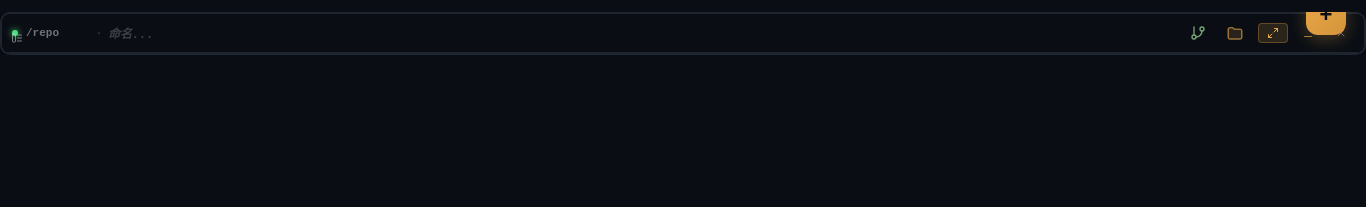
Test: M6 批A worktree 浮层 live › creating 失败 → 恢复可点 + error 显示 message
Click the button with class "tile-worktree-btn": point(1198, 33) [1184,21,1212,45]
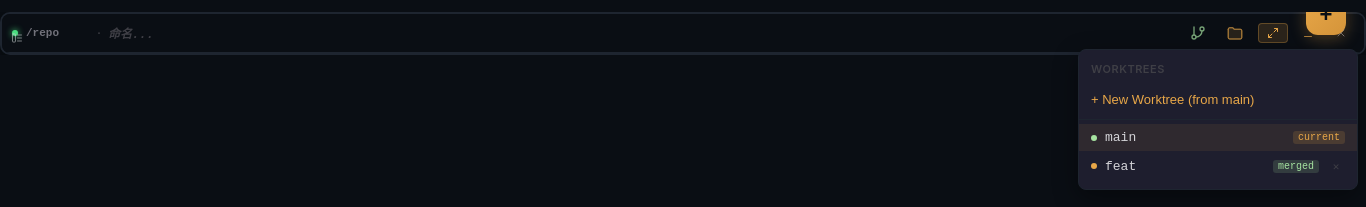
Click the button with class "worktree-popover__create": point(1218, 100) [1079,84,1357,115]
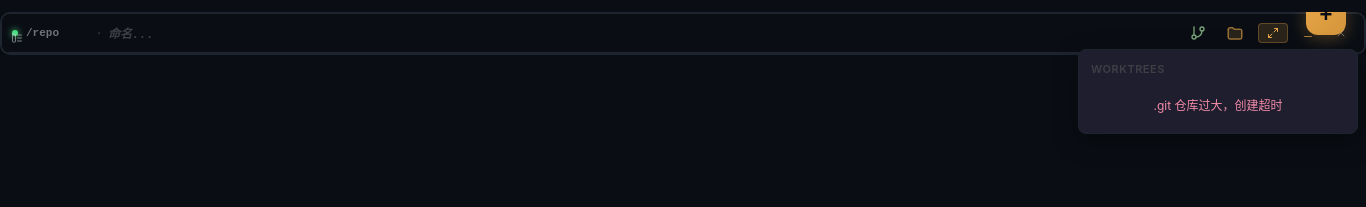
Check: the text with class "worktree-popover__error" reads ".git 仓库过大，创建超时", box [1154,98,1282,113]
